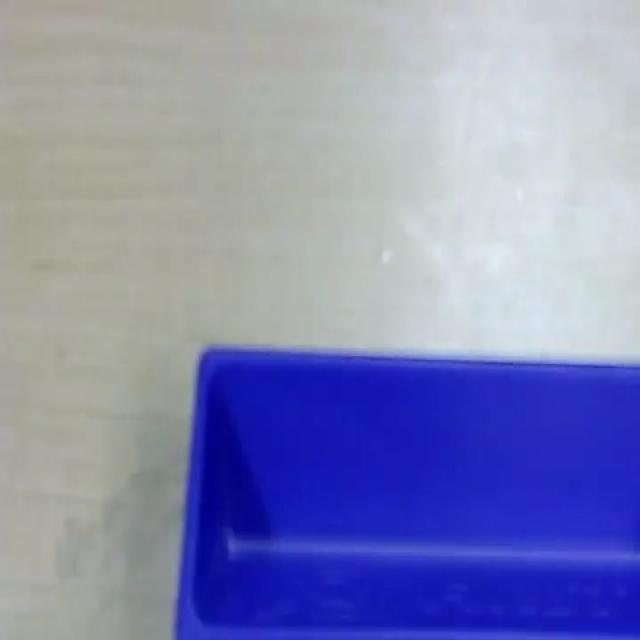blue_block: (174, 342, 639, 638)
